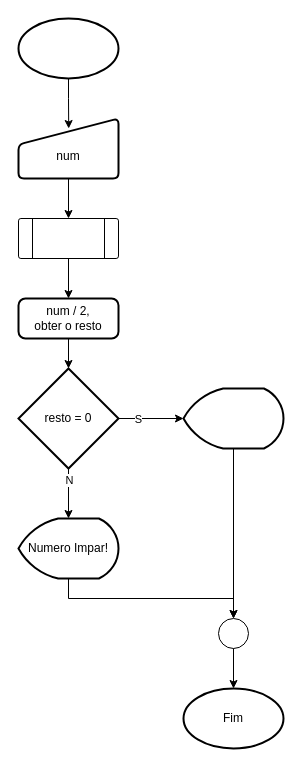
Image size: 301x766. Some labels were removed from this diagram. The centre of each missing label's shape, as x and y in pixels:
Início: (x=68, y=48)
Numero Par!: (x=233, y=418)
str_to_int: (x=68, y=238)
